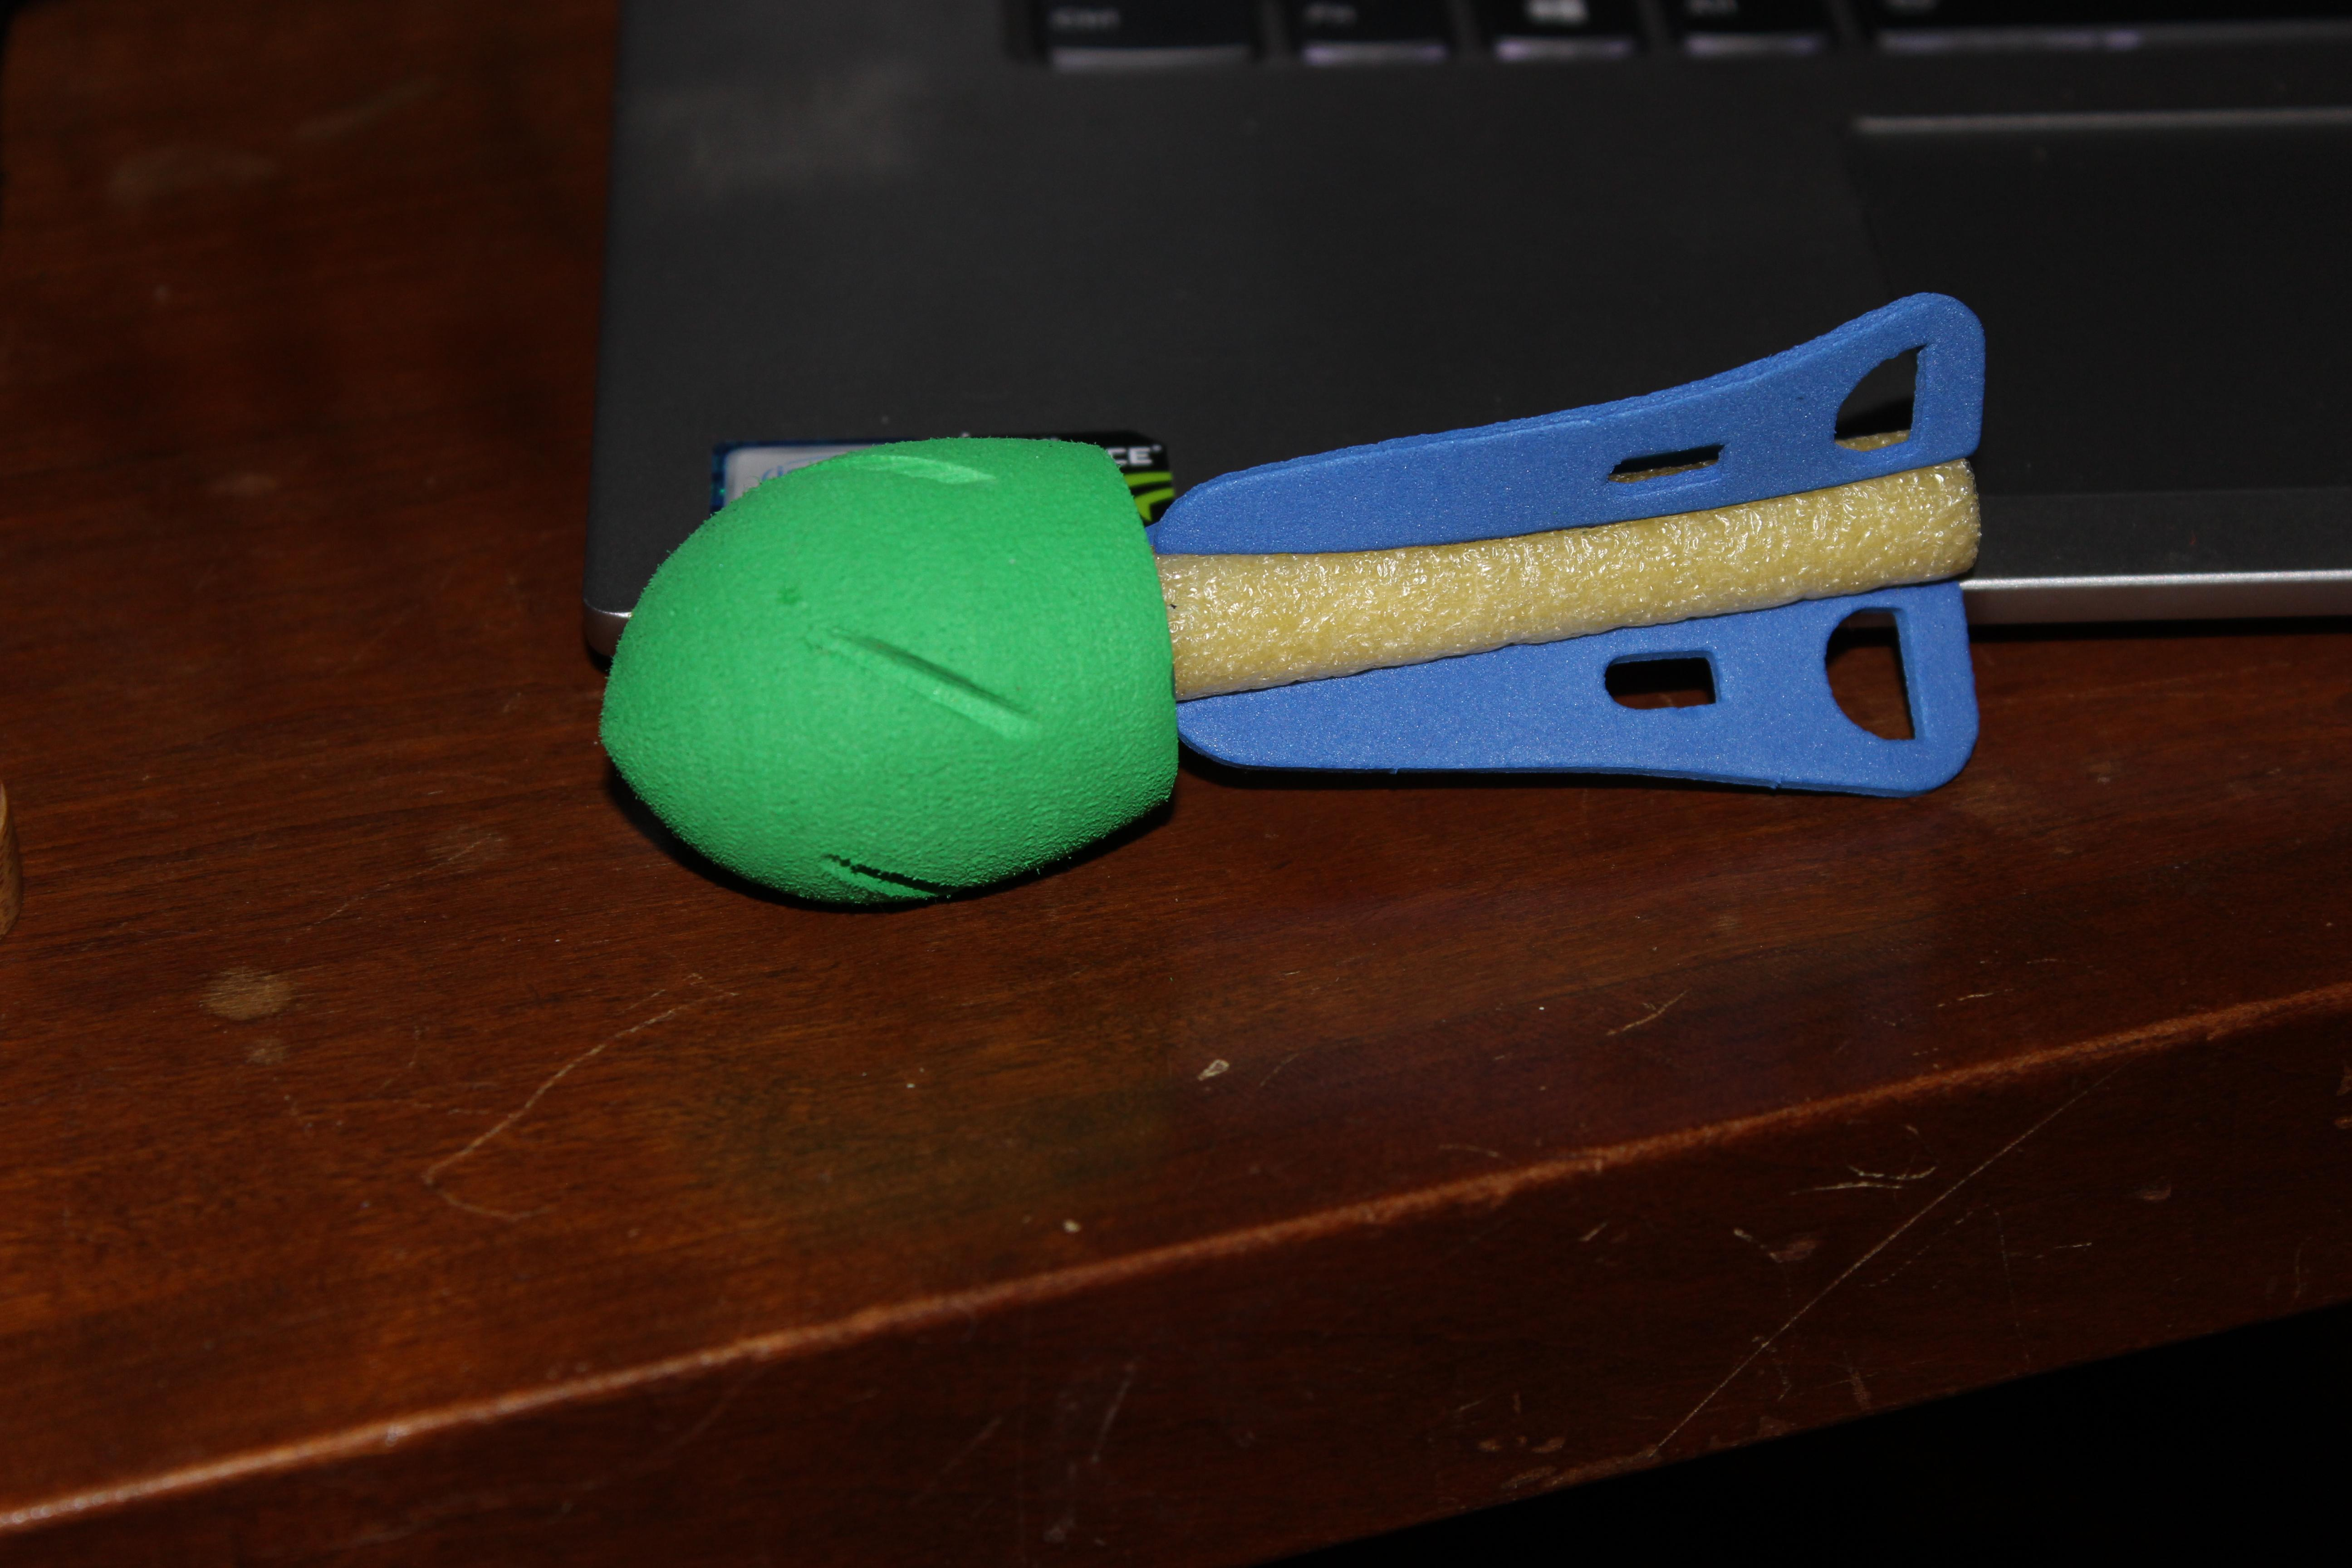foamDart: (532, 236, 2067, 954)
